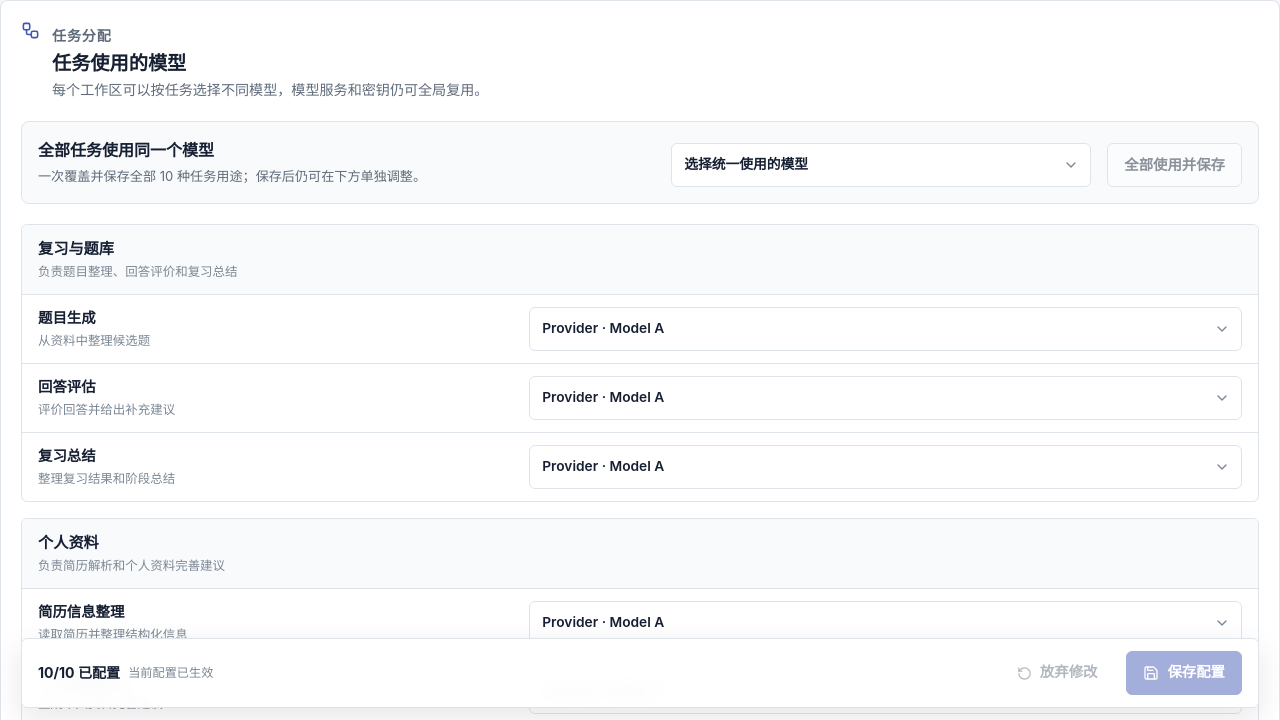
Test case: ModelBindings › applies one model to every role and saves in one request
Select "Provider · Model B" in the dropdown named "全部任务统一模型": point(881, 165) 671,143 -> 1091,187
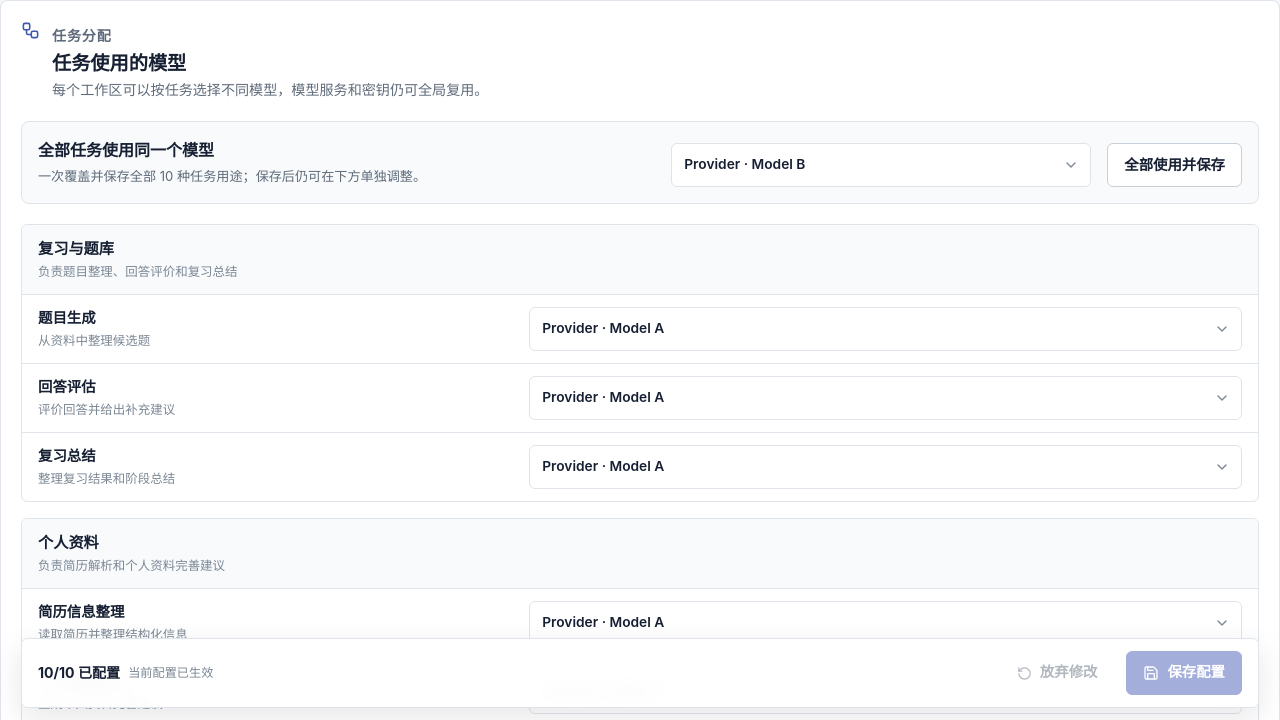
Click the button "全部使用并保存": point(1175, 165) 1107,143 -> 1242,187
(page scrolled)
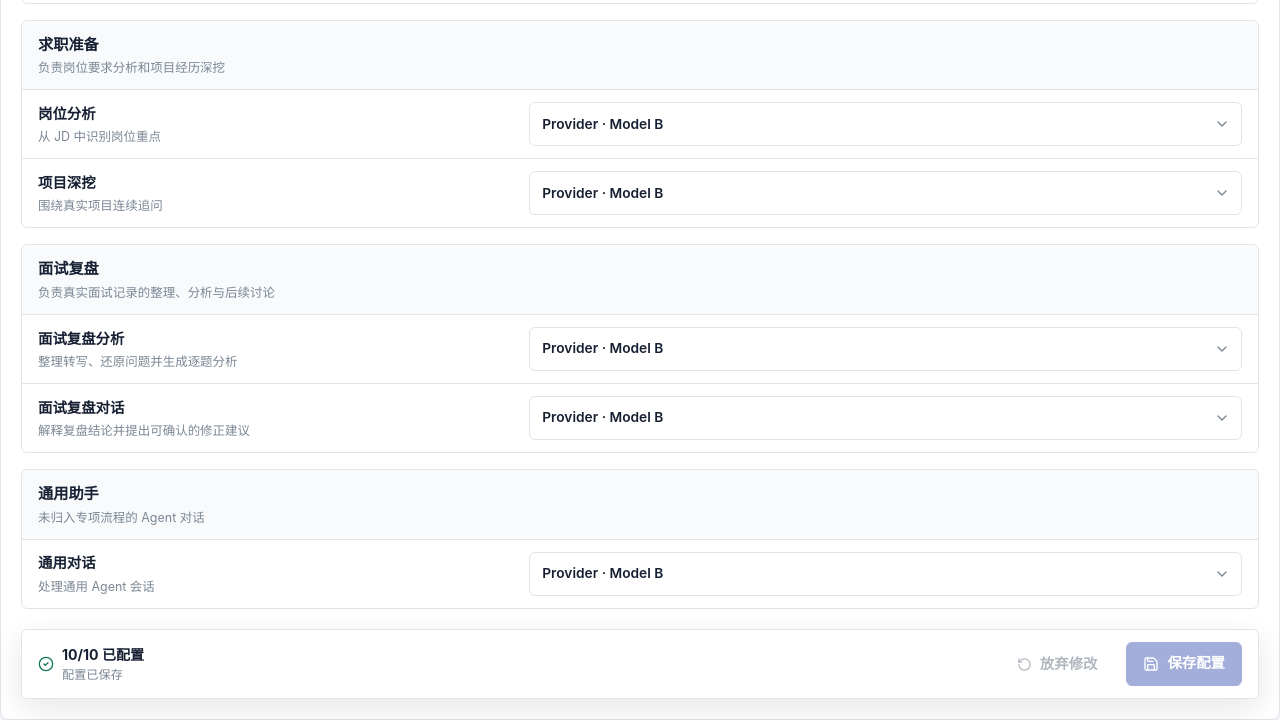
Expected: the dropdown labelled "面试复盘对话" shows "Provider · Model B", 529,396 -> 1242,440
